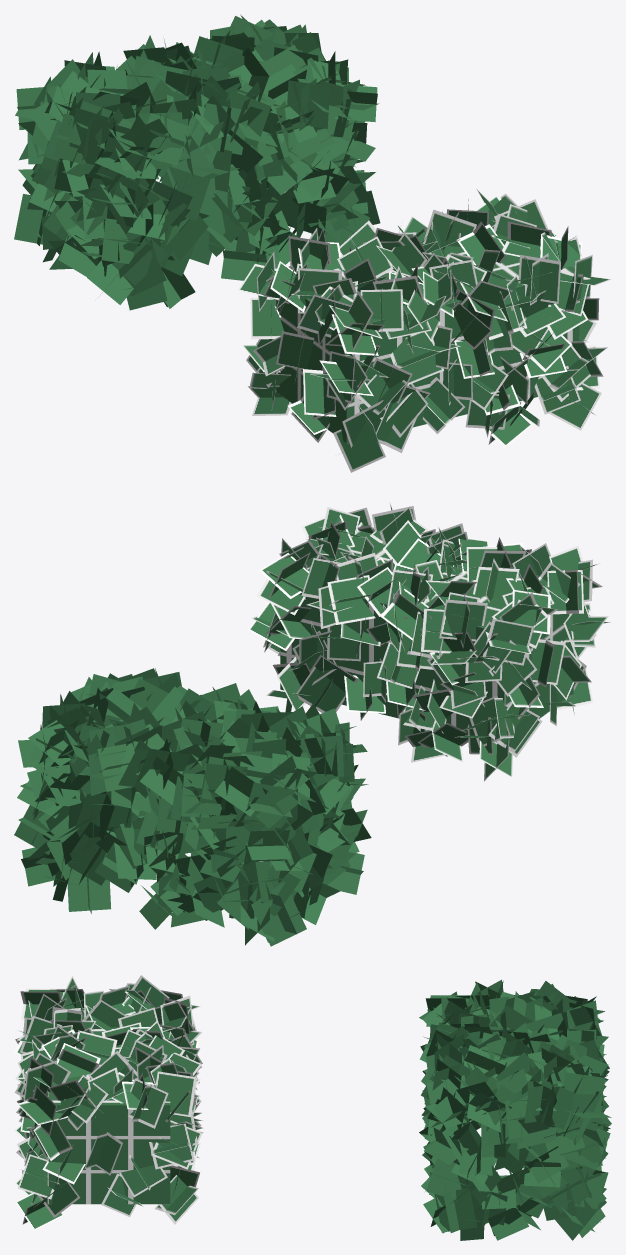
Rendered from test_bush_001.fbx.
The picture shows the model from 3 angles, top to bottom: view 1: azimuth 30°, elevation 25°; view 2: azimuth 150°, elevation 25°; view 3: azimuth 270°, elevation 25°; orthographic projection. The views are drawn at different scales.
Parts seen in each view (by area): view 1: leaves13, leaves14, pCube4, polySurface235, polySurface242, polySurface333, polySurface80, polySurface214, polySurface280, polySurface229, polySurface303, polySurface172 (+35 smaller); view 2: leaves13, leaves14, pCube4, polySurface143, polySurface288, polySurface267, polySurface138, polySurface100, polySurface99, polySurface223, polySurface217, polySurface265 (+21 smaller); view 3: leaves14, leaves13, pCube4, polySurface133, polySurface192, polySurface111, polySurface95, polySurface121, polySurface204, polySurface200, polySurface141, polySurface85 (+28 smaller).
Boxes of the visible parts, x1=… form: leaves13: x1=14, y1=35, x2=251, y2=310; leaves14: x1=159, y1=14, x2=380, y2=280; pCube4: x1=275, y1=226, x2=579, y2=443; polySurface235: x1=390, y1=332, x2=444, y2=385; polySurface242: x1=360, y1=289, x2=403, y2=331; polySurface333: x1=333, y1=418, x2=385, y2=472; polySurface80: x1=518, y1=255, x2=560, y2=303; polySurface214: x1=250, y1=297, x2=283, y2=339; polySurface280: x1=276, y1=331, x2=314, y2=369; polySurface229: x1=422, y1=377, x2=464, y2=433; polySurface303: x1=337, y1=236, x2=393, y2=278; polySurface172: x1=549, y1=383, x2=601, y2=430; leaves13: x1=136, y1=689, x2=371, y2=946; leaves14: x1=14, y1=668, x2=240, y2=913; pCube4: x1=280, y1=530, x2=573, y2=742; polySurface143: x1=327, y1=575, x2=375, y2=624; polySurface288: x1=482, y1=618, x2=533, y2=665; polySurface267: x1=439, y1=599, x2=487, y2=641; polySurface138: x1=296, y1=666, x2=345, y2=712; polySurface100: x1=327, y1=620, x2=361, y2=661; polySurface99: x1=259, y1=553, x2=308, y2=598; polySurface223: x1=421, y1=608, x2=451, y2=653; polySurface217: x1=473, y1=566, x2=519, y2=599; polySurface265: x1=377, y1=642, x2=420, y2=688; leaves14: x1=419, y1=1029, x2=611, y2=1240; leaves13: x1=419, y1=979, x2=611, y2=1144; pCube4: x1=47, y1=1008, x2=170, y2=1204; polySurface133: x1=155, y1=1071, x2=197, y2=1117; polySurface192: x1=18, y1=1154, x2=54, y2=1199; polySurface111: x1=125, y1=1078, x2=168, y2=1128; polySurface95: x1=149, y1=1123, x2=194, y2=1169; polySurface121: x1=119, y1=1165, x2=167, y2=1197; polySurface204: x1=37, y1=1177, x2=80, y2=1217; polySurface200: x1=15, y1=1193, x2=65, y2=1230; polySurface141: x1=64, y1=1075, x2=108, y2=1123; polySurface85: x1=75, y1=1030, x2=117, y2=1062.
Size of the model in its own units: 440 by 277 by 877.
